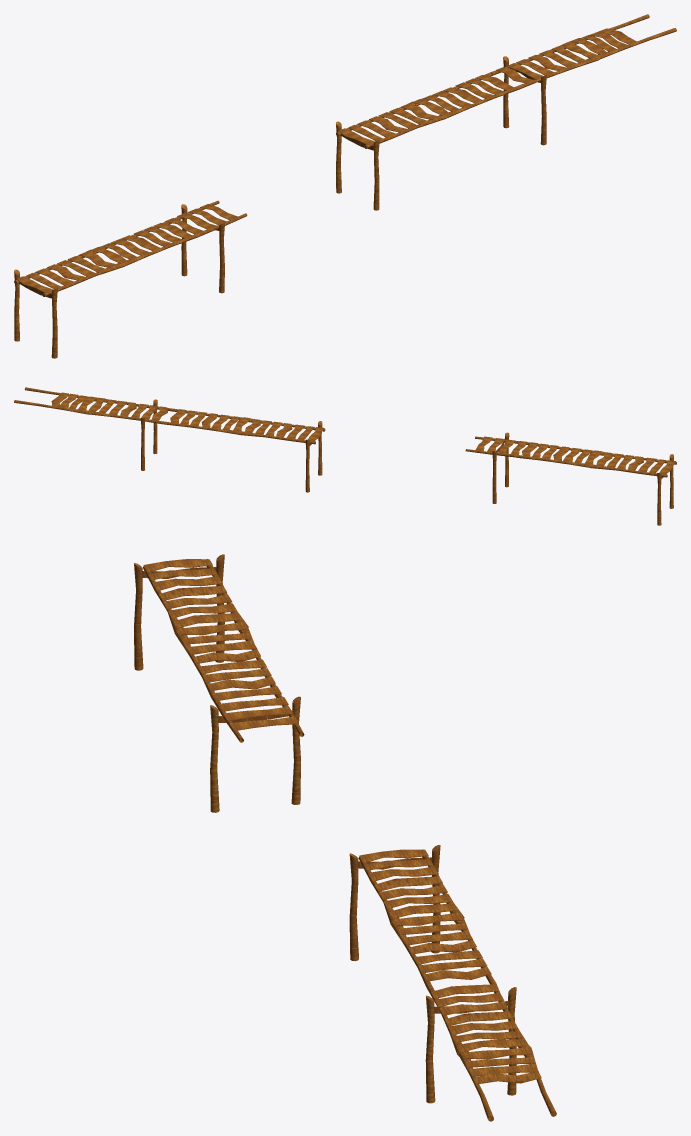
The model's file is bridge.FBX.
3 views of the same model, one above another, from view 1: azimuth 30°, elevation 25°; view 2: azimuth 150°, elevation 25°; view 3: azimuth 270°, elevation 25° (orthographic). The views are drawn at different scales.
Parts seen in each view (by area): view 1: wood_bridge_side_2, wood_bridge_side_1; view 2: wood_bridge_side_2, wood_bridge_side_1; view 3: wood_bridge_side_2, wood_bridge_side_1.
Boxes of the visible parts, x1=… form: wood_bridge_side_2: x1=336, y1=14, x2=676, y2=210; wood_bridge_side_1: x1=14, y1=200, x2=247, y2=358; wood_bridge_side_2: x1=14, y1=387, x2=325, y2=492; wood_bridge_side_1: x1=465, y1=432, x2=676, y2=525; wood_bridge_side_2: x1=349, y1=845, x2=556, y2=1121; wood_bridge_side_1: x1=134, y1=554, x2=304, y2=812.
Bounding box in the file's own units: 22123 × 1957 × 7094.
